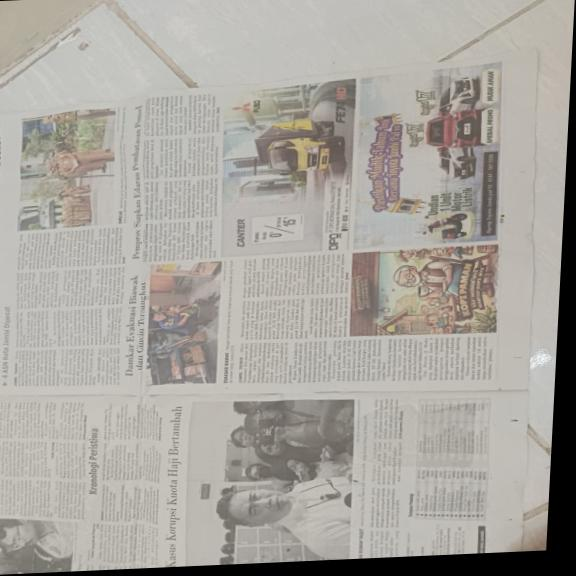Kertas: (0, 373, 522, 573), (110, 66, 523, 264), (166, 236, 520, 401), (0, 110, 157, 395)
